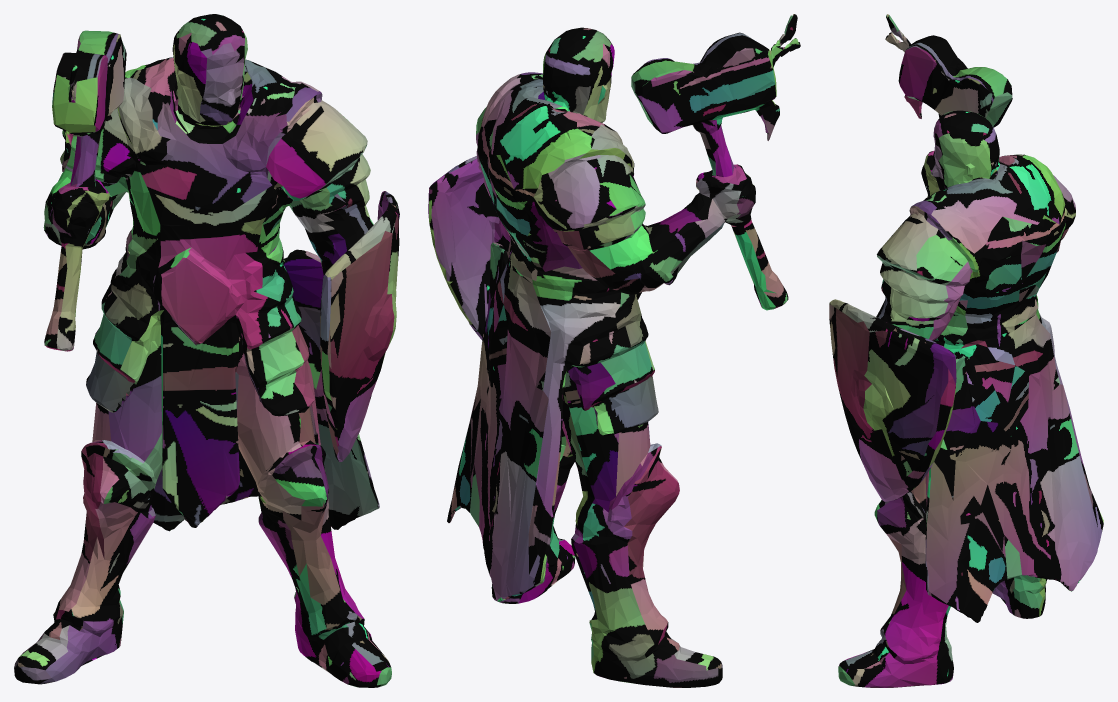
File: arman_grad.glb
3 renders of one model, left to right at view 1: azimuth 30°, elevation 25°; view 2: azimuth 150°, elevation 25°; view 3: azimuth 270°, elevation 25°, orthographic. The views are drawn at different scales.
Parts seen in each view (by area): view 1: world; view 2: world; view 3: world.
Boxes of the visible parts, x1,y1,x2,y2 form: world: [14, 14, 399, 687]; world: [428, 14, 800, 687]; world: [829, 14, 1103, 687].
Bounding box in the file's own units: 0.5688 × 1 × 0.4495.
1 material, 1 textured.
